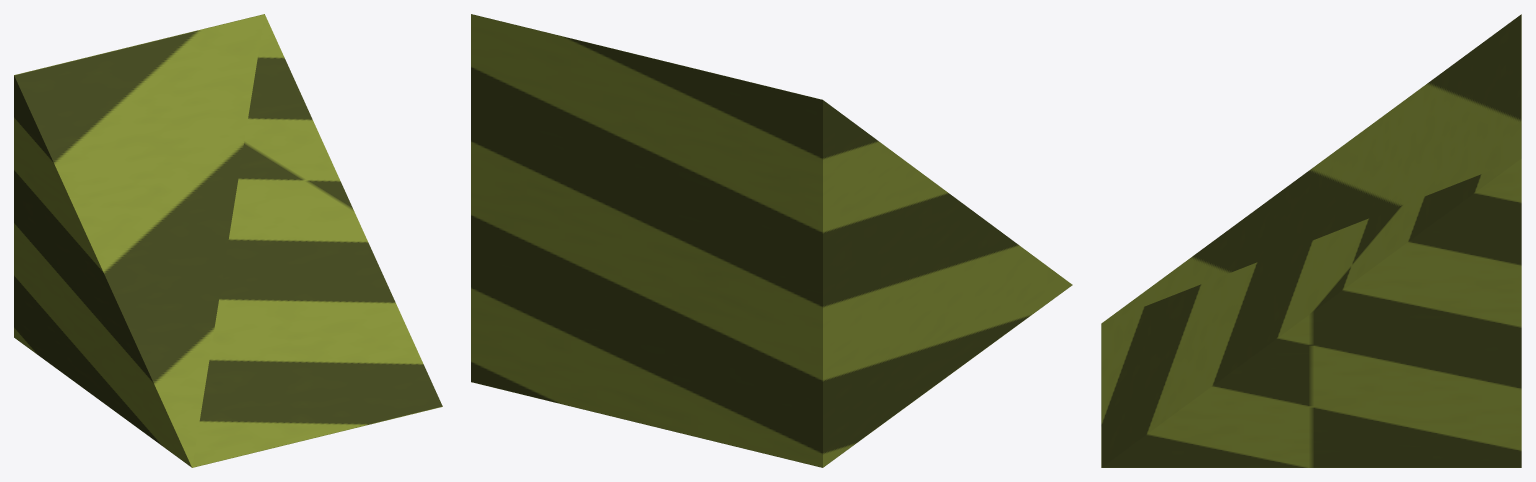
3 views of the same model, side by side, from view 1: azimuth 30°, elevation 25°; view 2: azimuth 150°, elevation 25°; view 3: azimuth 270°, elevation 25° (orthographic). The views are drawn at different scales.
Visible parts, largest first — view 1: geometry_0; view 2: geometry_0; view 3: geometry_0.
Part boxes in pixels (left/top/right/bottom): geometry_0: left=14, top=14, right=442, bottom=467; geometry_0: left=471, top=14, right=1072, bottom=467; geometry_0: left=1101, top=14, right=1521, bottom=467.
Bounding box in the file's own units: 1.43 × 1.43 × 1.76.
1 material, 1 textured.
